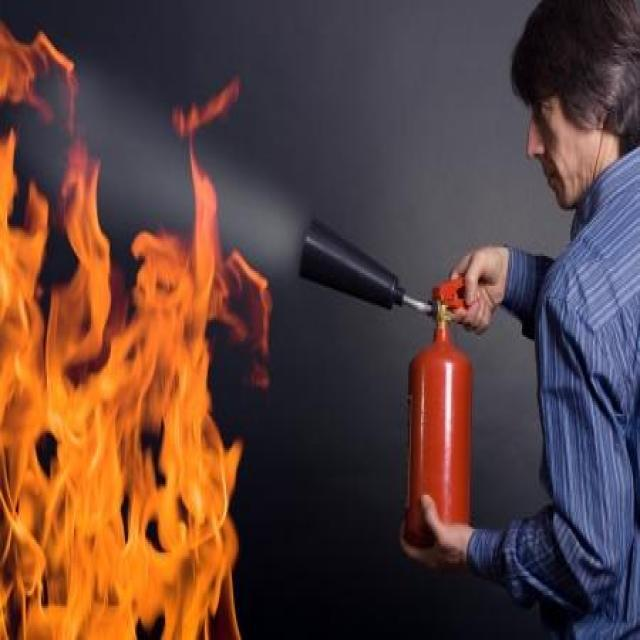fire_extinguisher: (294, 204, 494, 566)
